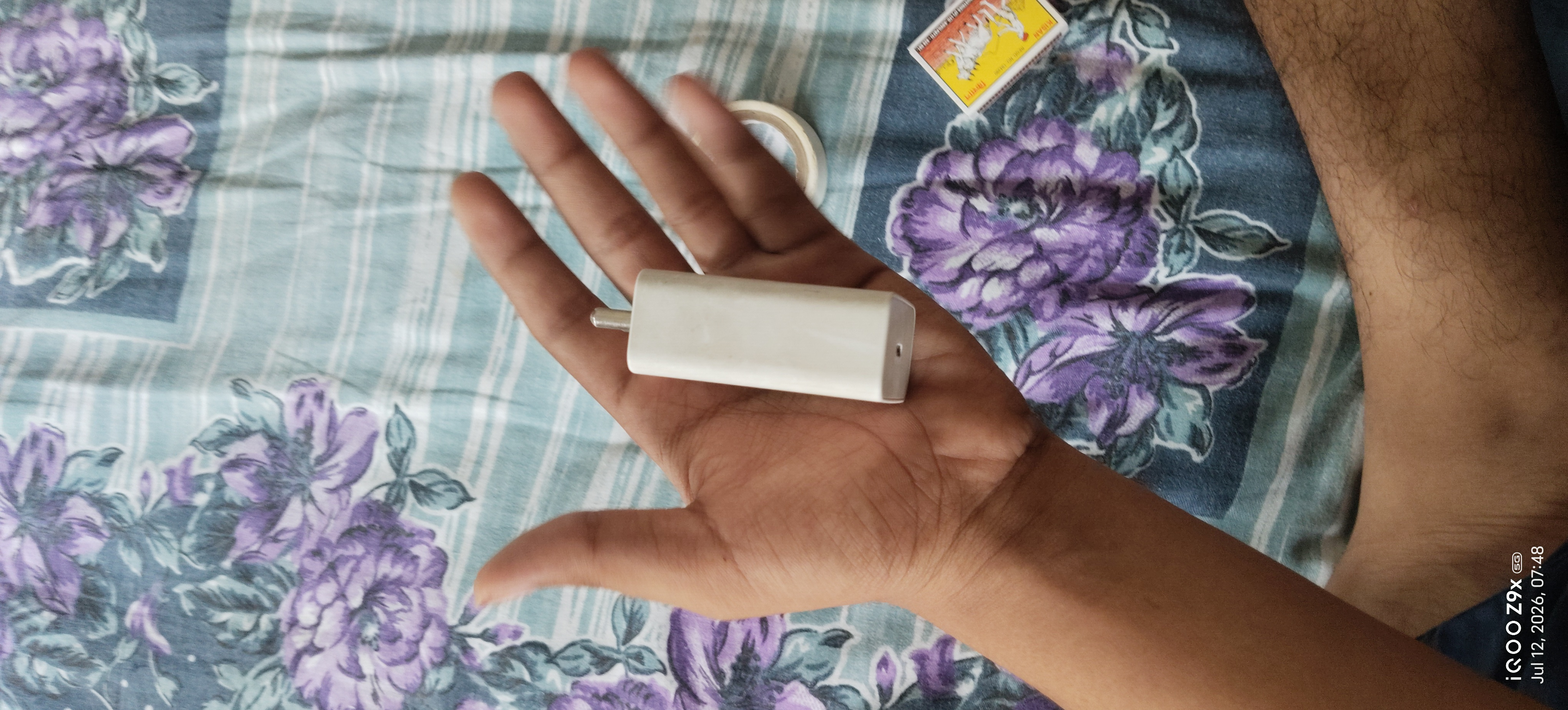charger: (566, 230, 921, 443)
matchbox: (883, 0, 1106, 137)
tape_roll: (699, 81, 841, 223)
